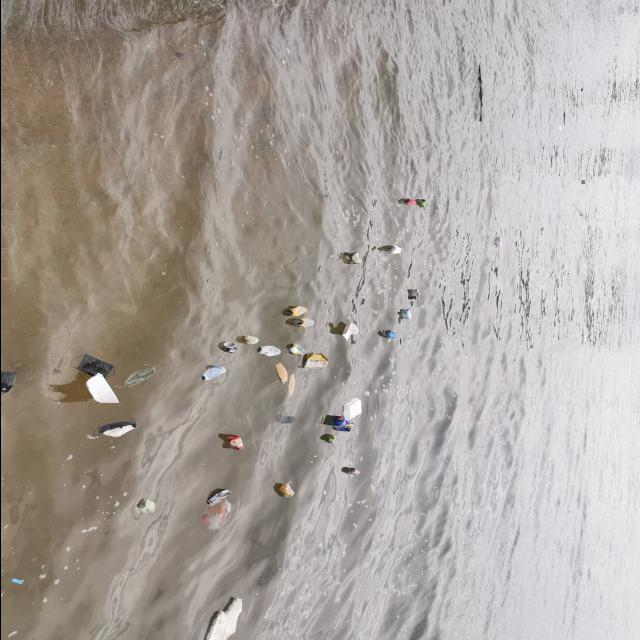can: (200, 367, 226, 382), (206, 490, 232, 505), (258, 346, 281, 358), (285, 307, 307, 318), (289, 344, 307, 357), (295, 319, 315, 329), (349, 254, 363, 266), (224, 342, 238, 354), (388, 246, 403, 255), (384, 331, 398, 339), (402, 310, 412, 320), (404, 199, 416, 207), (348, 469, 360, 477), (419, 201, 429, 209)
foam: (206, 598, 244, 640), (86, 374, 120, 405), (343, 399, 363, 421), (342, 324, 360, 343)
